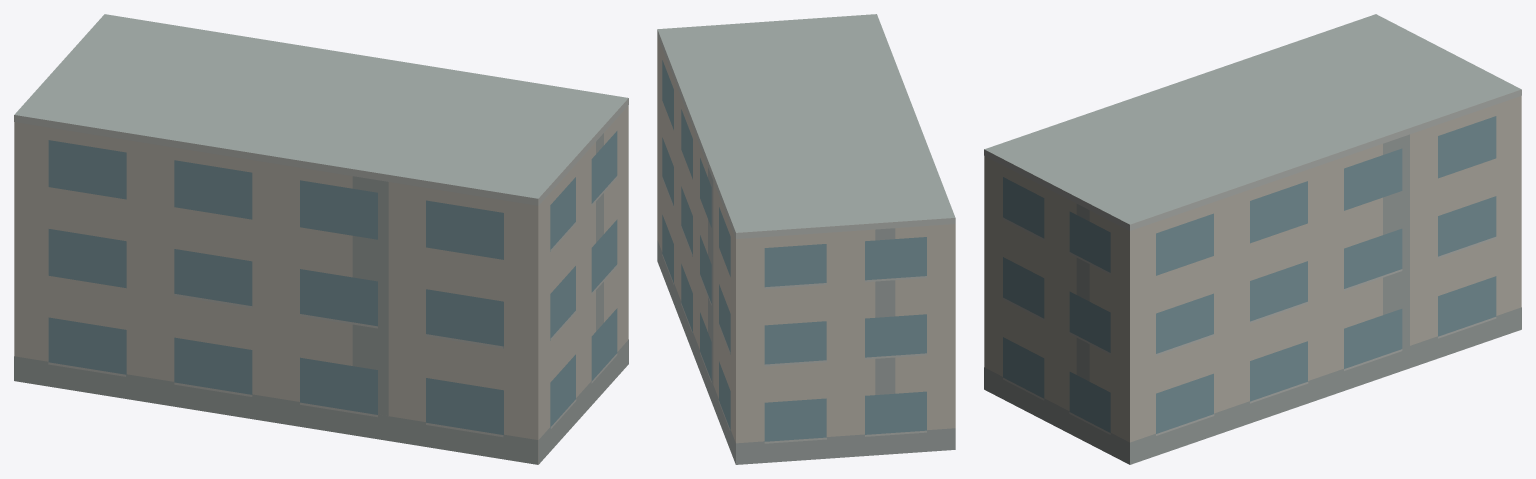
Rendered from residential-01489ffb-d548-4380-a43e-8413be828829.glb.
3 renders of one model, left to right at view 1: azimuth 30°, elevation 25°; view 2: azimuth 150°, elevation 25°; view 3: azimuth 270°, elevation 25°, orthographic. The views are drawn at different scales.
Visible parts, largest first — view 1: residential-01489ffb-d548-4380-a43e-8413be828829.tmp; view 2: residential-01489ffb-d548-4380-a43e-8413be828829.tmp; view 3: residential-01489ffb-d548-4380-a43e-8413be828829.tmp.
Boxes of the visible parts, x1,y1,x2,y2 form: residential-01489ffb-d548-4380-a43e-8413be828829.tmp: (14,14,628,464); residential-01489ffb-d548-4380-a43e-8413be828829.tmp: (657,14,955,464); residential-01489ffb-d548-4380-a43e-8413be828829.tmp: (984,14,1521,464).
Size of the model in its own units: 17.22 by 9.15 by 18.57.
